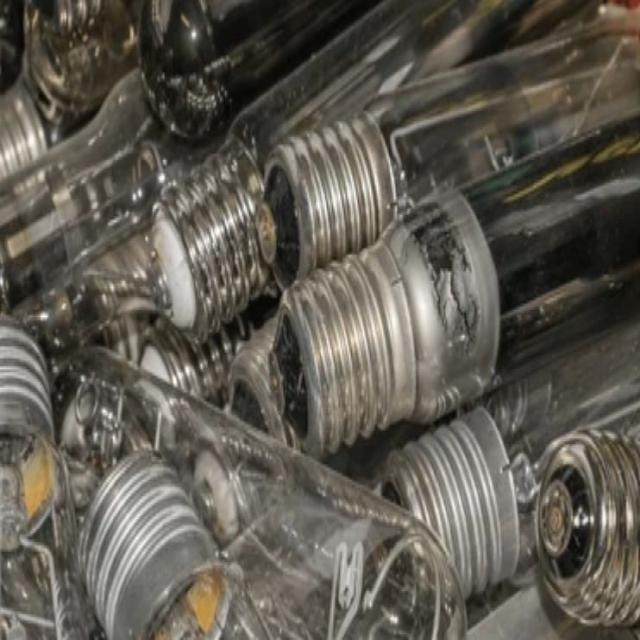electronic: (0, 0, 639, 639), (256, 180, 502, 458), (76, 447, 270, 638), (0, 312, 100, 638), (533, 424, 639, 628)
